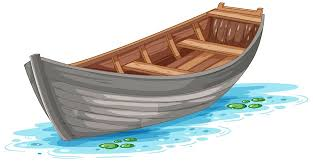boat: (23, 3, 266, 142)
